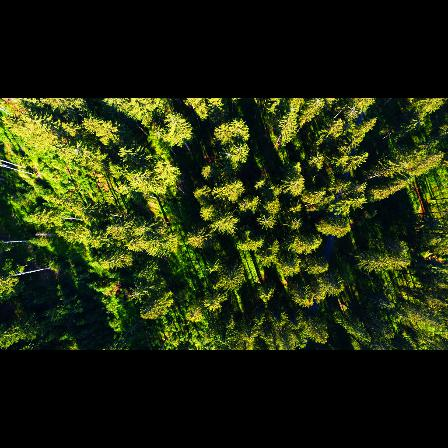Sick: (258, 214, 276, 231), (217, 162, 236, 176), (218, 147, 237, 161), (232, 142, 249, 157)
